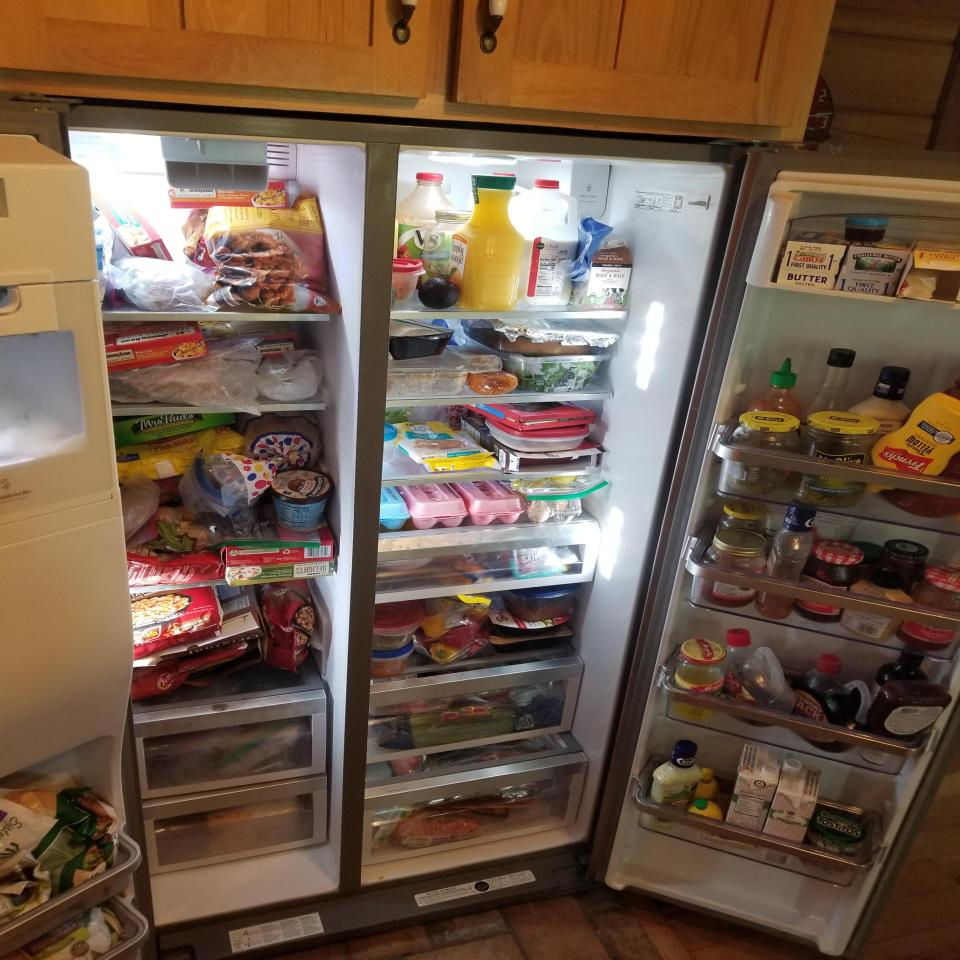Aguacate: (418, 278, 459, 310)
Huevos: (453, 482, 524, 526), (400, 483, 466, 530), (380, 487, 410, 530)
Leche: (508, 178, 578, 306)
Zanahoria: (396, 810, 486, 847)
